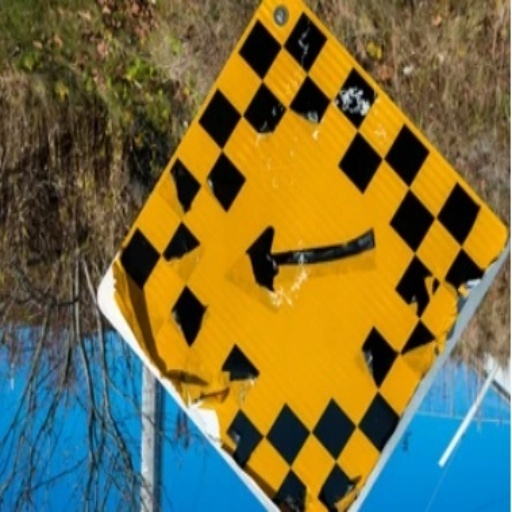Turn left: (131, 89, 455, 407)
